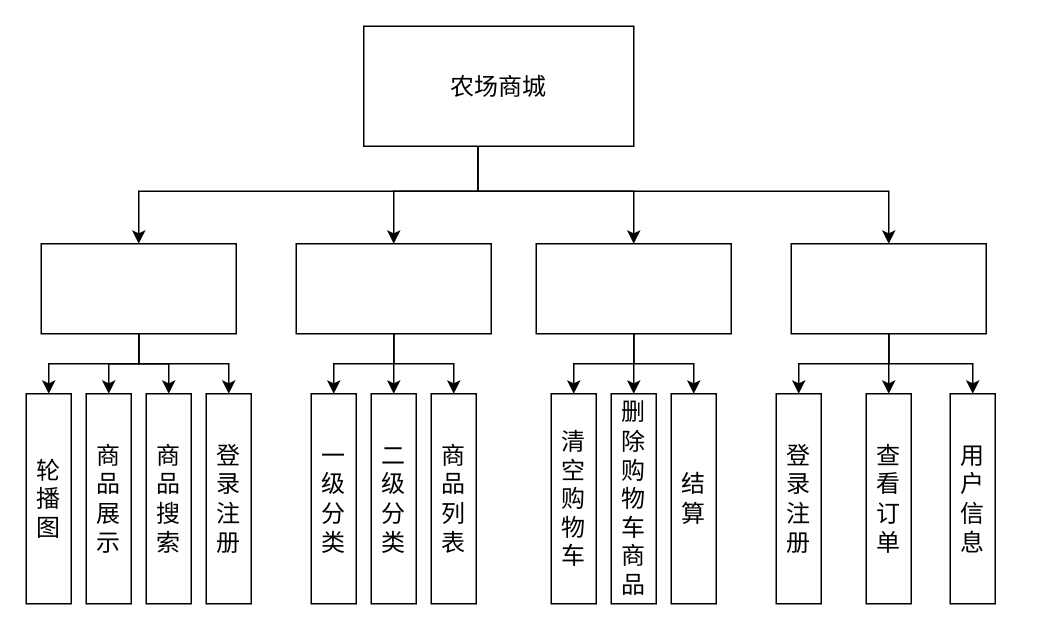
Image size: 1043x630. Some labels were removed from this diagram. The centre of each missing label's shape, as x and y in pixels:
"商品分类" belongs at point 393,288.
"用户中心" belongs at point 888,288.
"购物车" belongs at point 633,288.
"首页" belongs at point 138,288.
